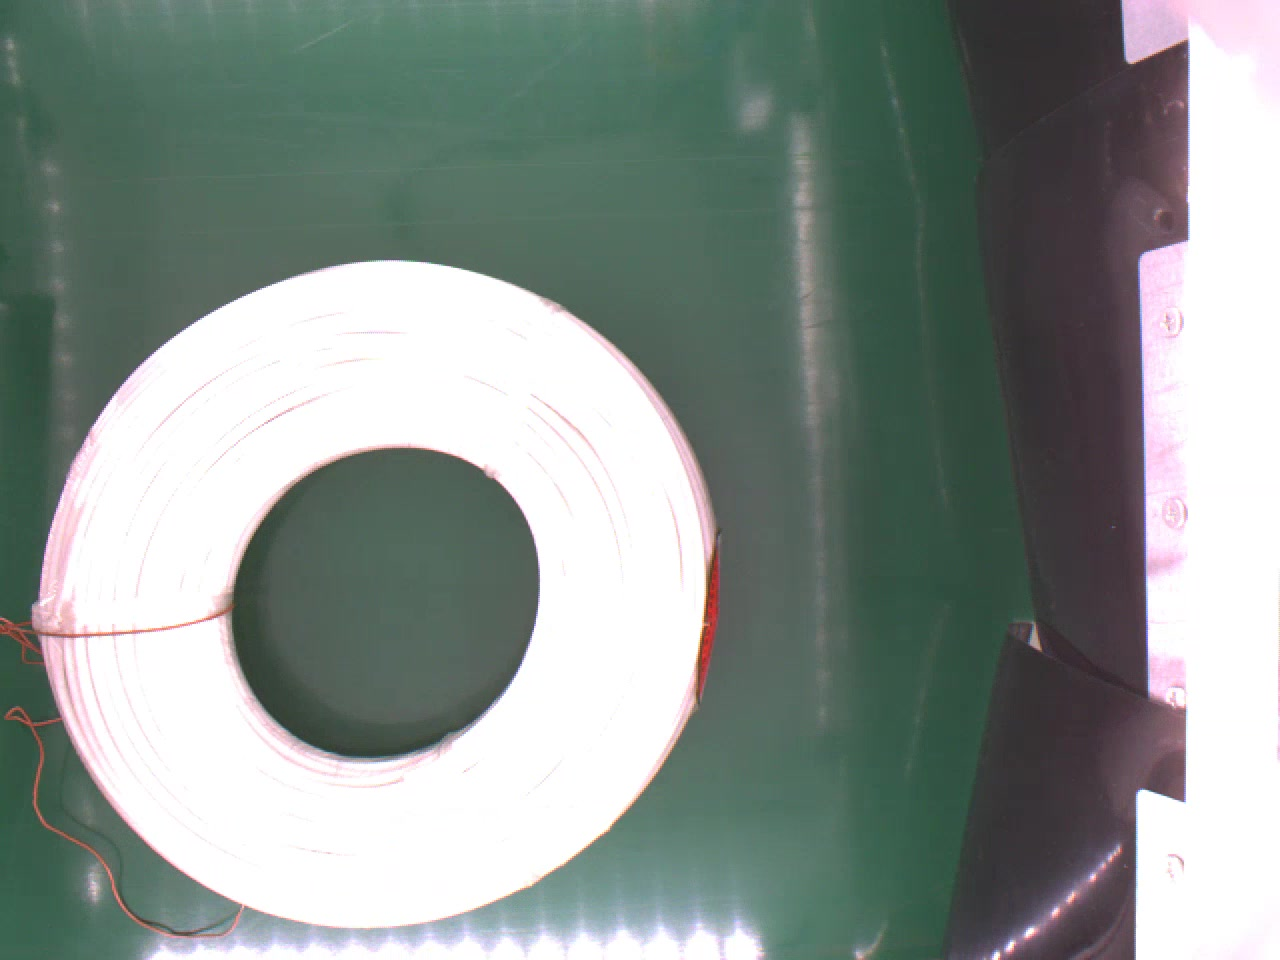white: (42, 249, 724, 921)
